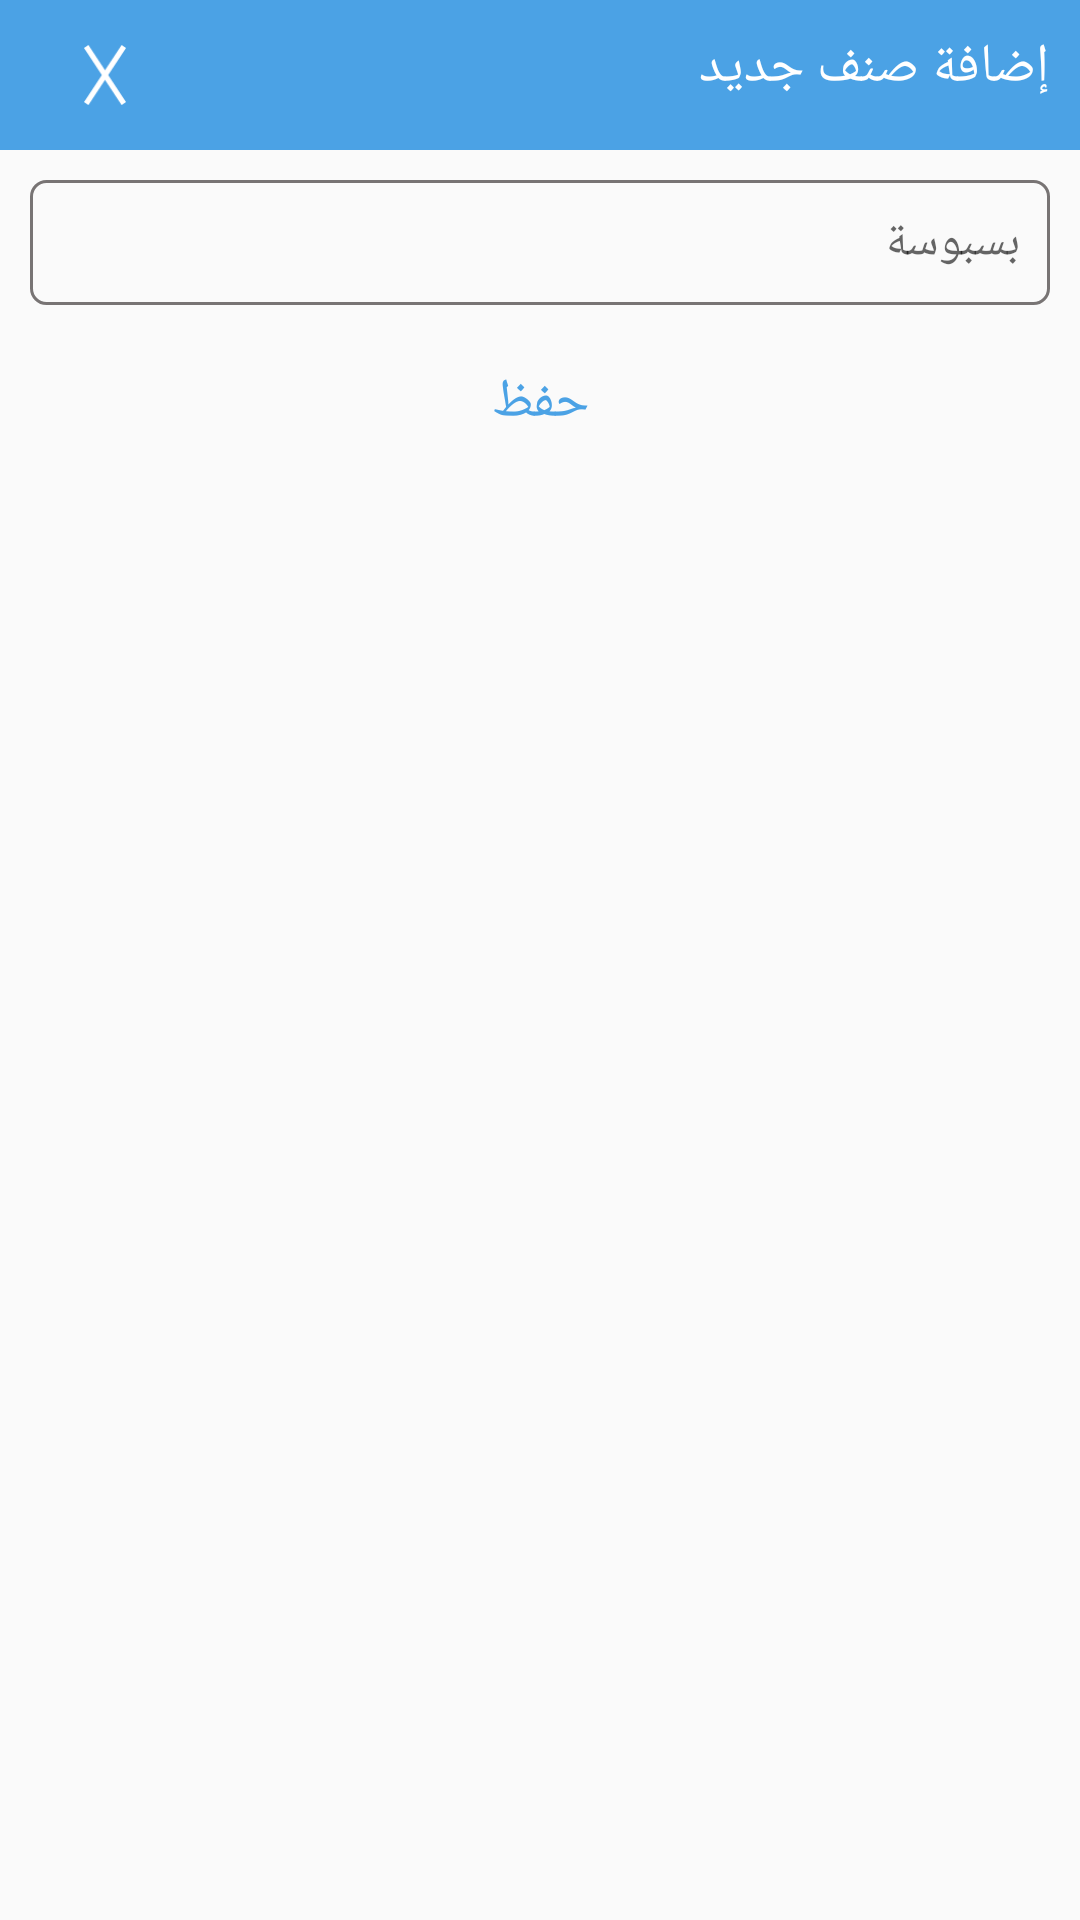

Icons on this 1080×1920 Android screen, each with its box as (x1, y1, x2, y2):
close: (84, 45, 126, 105)
